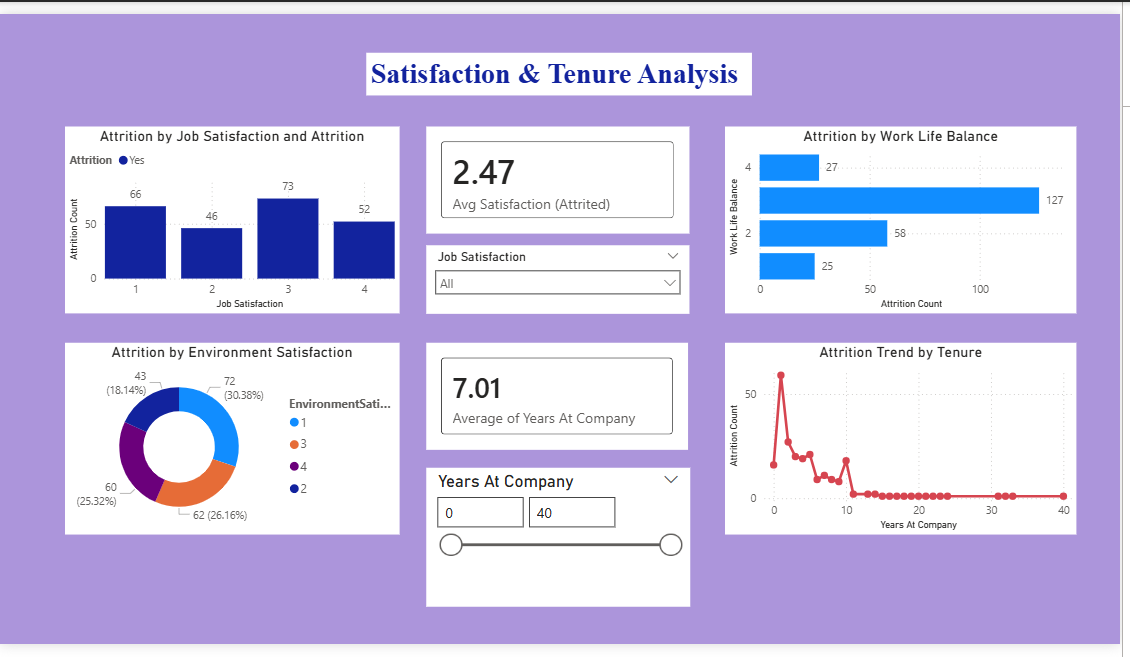

The page's visual inventory and layout, read from the dashboard file:
{"tool":"powerbi","page":{"name":"Satisfaction & Tenure","canvas":[1280,720],"ordinal":2},"visuals":[{"type":"textbox","box":[419.1,44.2,440.4,48.5],"z":0},{"type":"clusteredColumnChart","title":"Attrition by Job Satisfaction and Attrition","fields":{"Category":["HR Employee Attrition.Job Satisfaction"],"Y":["HR Employee Attrition.Attrition Count"],"Series":["HR Employee Attrition.Attrition"]},"box":[74.1,128.3,382,213.8],"z":1000},{"type":"clusteredBarChart","title":"Attrition by Work Life Balance","fields":{"Category":["HR Employee Attrition.Work Life Balance"],"Y":["HR Employee Attrition.Attrition Count"]},"box":[828.2,128.3,402,213.8],"z":2000},{"type":"lineChart","title":"Attrition Trend by Tenure","fields":{"Category":["HR Employee Attrition.Years At Company"],"Y":["HR Employee Attrition.Attrition Count"]},"box":[828.2,376.3,402,219.5],"z":3000},{"type":"donutChart","title":"Attrition by Environment Satisfaction","fields":{"Category":["HR Employee Attrition.EnvironmentSatisfaction"],"Y":["HR Employee Attrition.Attrition Count"]},"box":[74.1,376.3,382,219.5],"z":4000},{"type":"cardVisual","fields":{"Data":["HR Employee Attrition.Avg Satisfaction (Attrited)"]},"box":[487.5,128.3,300.8,122.6],"z":5000},{"type":"cardVisual","fields":{"Data":["Avg(HR Employee Attrition.Years At Company)"]},"box":[487.5,376.3,299.3,122.6],"z":6000},{"type":"slicer","fields":{"Values":["HR Employee Attrition.Job Satisfaction"]},"box":[487.5,263.7,300.8,78.4],"z":7000},{"type":"slicer","fields":{"Values":["HR Employee Attrition.Years At Company"]},"box":[487.5,518.8,300.8,158.2],"z":8000}]}

Visuals, with their boxes in screenshot pixels (x1, y1, x2, y2):
textbox: [left=365, top=50, right=748, bottom=92]
"Attrition by Job Satisfaction and Attrition" clusteredColumnChart: [left=65, top=123, right=397, bottom=310]
"Attrition by Work Life Balance" clusteredBarChart: [left=721, top=123, right=1071, bottom=310]
"Attrition Trend by Tenure" lineChart: [left=721, top=339, right=1071, bottom=530]
"Attrition by Environment Satisfaction" donutChart: [left=65, top=339, right=397, bottom=530]
cardVisual - HR Employee Attrition.Avg Satisfaction (Attrited): [left=424, top=123, right=686, bottom=230]
cardVisual - Avg(HR Employee Attrition.Years At Company): [left=424, top=339, right=685, bottom=446]
slicer - HR Employee Attrition.Job Satisfaction: [left=424, top=241, right=686, bottom=310]
slicer - HR Employee Attrition.Years At Company: [left=424, top=463, right=686, bottom=601]
